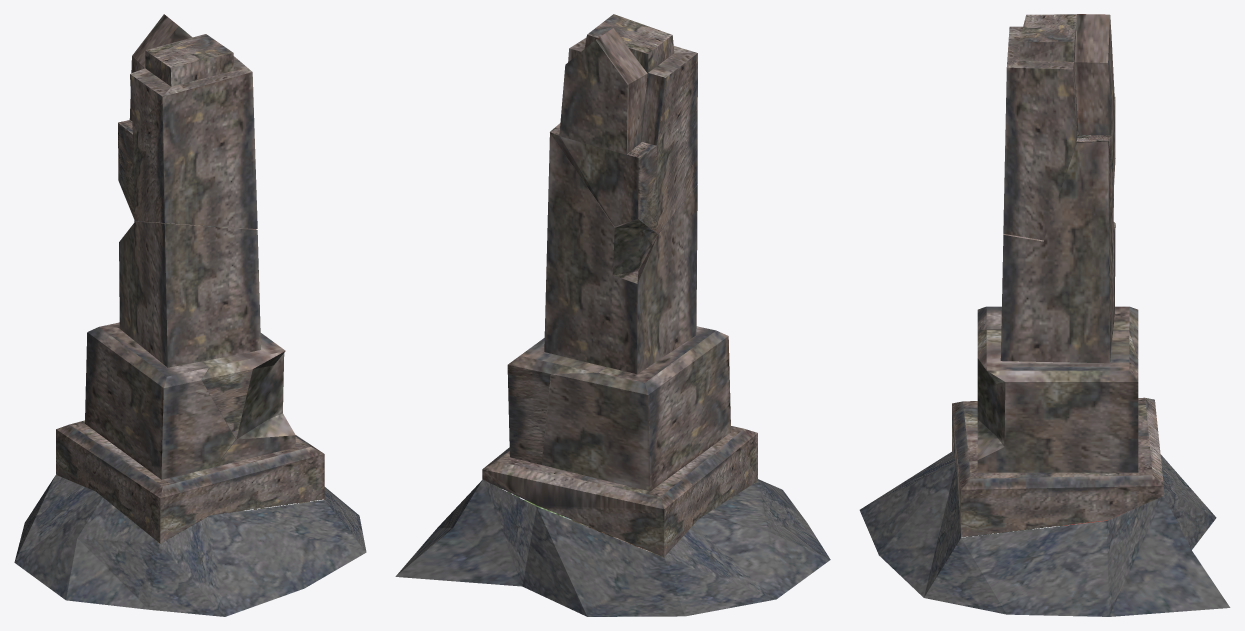
The model's file is C4SMSTONECROSS2H.obj.
The picture shows the model from 3 angles, left to right: view 1: azimuth 30°, elevation 25°; view 2: azimuth 150°, elevation 25°; view 3: azimuth 270°, elevation 25°; orthographic projection. The views are drawn at different scales.
Visible parts, largest first — view 1: Node 0, Node 1, Node 5, Node 7, Node 6, Node 2, Node 4; view 2: Node 0, Node 5, Node 6, Node 1, Node 7, Node 4, Node 2; view 3: Node 0, Node 2, Node 5, Node 1, Node 7, Node 4, Node 6.
Part boxes in pixels (left/top/right/bottom): Node 0: left=14, top=475, right=366, bottom=616; Node 1: left=118, top=34, right=257, bottom=228; Node 5: left=119, top=182, right=260, bottom=367; Node 7: left=56, top=420, right=324, bottom=543; Node 6: left=85, top=322, right=235, bottom=479; Node 2: left=201, top=333, right=295, bottom=466; Node 4: left=129, top=14, right=192, bottom=120; Node 0: left=395, top=479, right=830, bottom=616; Node 5: left=544, top=133, right=697, bottom=374; Node 6: left=541, top=326, right=730, bottom=490; Node 1: left=550, top=14, right=697, bottom=233; Node 7: left=482, top=426, right=757, bottom=556; Node 4: left=559, top=28, right=647, bottom=154; Node 2: left=507, top=338, right=605, bottom=464; Node 0: left=859, top=451, right=1230, bottom=616; Node 2: left=977, top=329, right=1138, bottom=472; Node 5: left=1000, top=141, right=1115, bottom=363; Node 1: left=1003, top=14, right=1115, bottom=240; Node 7: left=952, top=397, right=1163, bottom=537; Node 4: left=1075, top=14, right=1114, bottom=135; Node 6: left=977, top=306, right=1138, bottom=358.
Size of the model in its own units: 5.45 by 8.37 by 5.36.
Materials: 8 (8 with a texture image).
